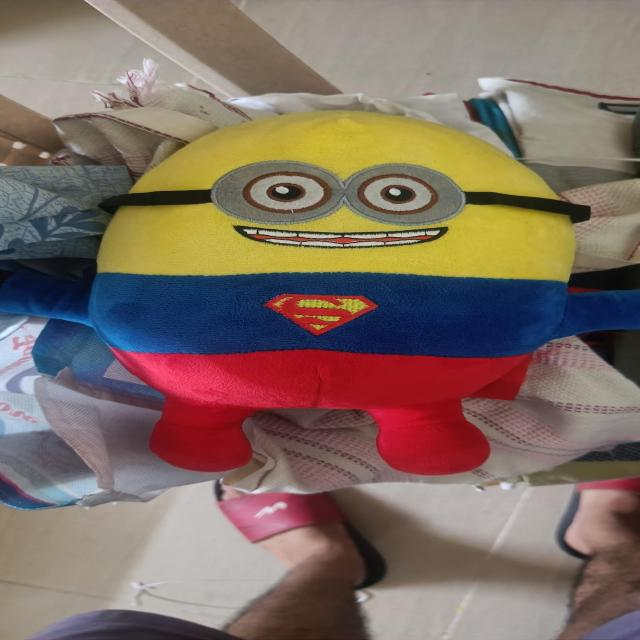minion: (5, 93, 640, 473)
